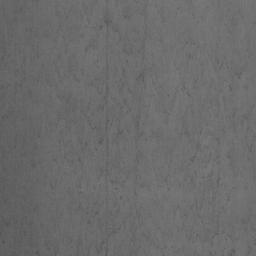Silk spot: (0, 0, 256, 256), (0, 32, 39, 126), (0, 127, 41, 204), (176, 0, 203, 23), (3, 7, 29, 25)
